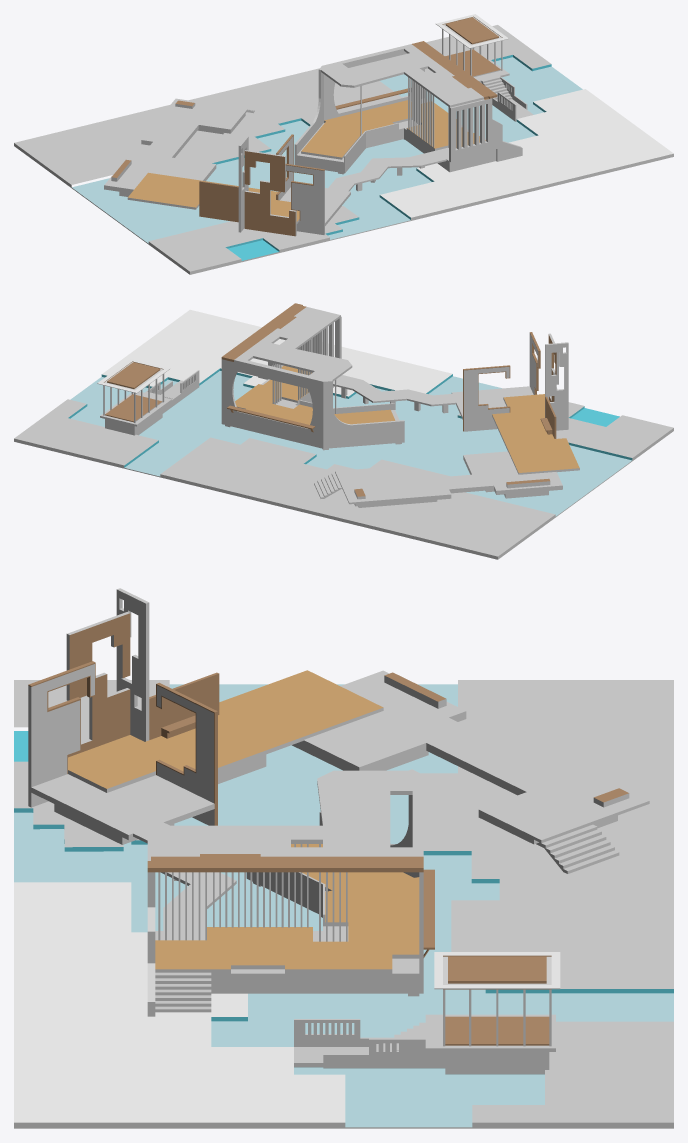
The picture shows the model from 3 angles, top to bottom: view 1: azimuth 30°, elevation 25°; view 2: azimuth 150°, elevation 25°; view 3: azimuth 270°, elevation 25°; orthographic projection. The views are drawn at different scales.
Parts seen in each view (by area): view 1: Mesh18-FrontColor, Mesh18-M_0128_White, Group3-FrontColor (×2), Mesh18-Water_Pool_Light, Mesh8-FrontColor, Mesh8-Wood_Veneer_01, Group3-Wood_Bamboo, Mesh8-Wood_Bamboo, Group2-FrontColor (×2), Group2-Wood_Veneer_01, Mesh18-Water_Sparkling, Group3-Wood_Veneer_01 (+1 smaller); view 2: Mesh18-FrontColor, Mesh18-Water_Pool_Light, Mesh8-FrontColor, Group3-FrontColor (×2), Mesh18-M_0128_White, Mesh8-Wood_Bamboo, Group3-Wood_Bamboo, Group2-FrontColor (×2), Group2-Wood_Veneer_01, Group3-Wood_Veneer_01, Mesh8-Wood_Veneer_01, Mesh18-Water_Sparkling (+1 smaller); view 3: Mesh18-FrontColor, Mesh18-Water_Pool_Light, Mesh18-M_0128_White, Mesh8-FrontColor, Group3-FrontColor (×2), Group3-Wood_Bamboo, Mesh8-Wood_Bamboo, Group2-FrontColor (×2), Mesh8-Wood_Veneer_01, Group2-Wood_Veneer_01, Group3-Wood_Veneer_01, Mesh18-Water_Sparkling (+1 smaller).
Boxes of the visible parts, box(x1,y1,x2,y2) form: Mesh18-FrontColor: box(14, 25, 673, 274); Mesh18-M_0128_White: box(380, 89, 673, 217); Group3-FrontColor (×2): box(294, 44, 522, 174); Mesh18-Water_Pool_Light: box(72, 57, 582, 243); Mesh8-FrontColor: box(104, 98, 446, 235); Mesh8-Wood_Veneer_01: box(112, 100, 324, 236); Group3-Wood_Bamboo: box(301, 100, 485, 157); Mesh8-Wood_Bamboo: box(128, 172, 299, 221); Group2-FrontColor (×2): box(436, 24, 533, 121); Group2-Wood_Veneer_01: box(442, 16, 502, 76); Mesh18-Water_Sparkling: box(212, 55, 551, 260); Group3-Wood_Veneer_01: box(335, 41, 497, 109); Mesh18-FrontColor: box(14, 394, 673, 559); Mesh18-Water_Pool_Light: box(70, 371, 631, 515); Mesh8-FrontColor: box(314, 333, 579, 507); Group3-FrontColor (×2): box(221, 307, 404, 450); Mesh18-M_0128_White: box(102, 309, 452, 396); Mesh8-Wood_Bamboo: box(492, 394, 579, 472); Group3-Wood_Bamboo: box(235, 365, 395, 424); Group2-FrontColor (×2): box(97, 369, 199, 435); Group2-Wood_Veneer_01: box(104, 361, 163, 422); Group3-Wood_Veneer_01: box(221, 303, 315, 432); Mesh8-Wood_Veneer_01: box(354, 332, 556, 496); Mesh18-Water_Sparkling: box(68, 368, 632, 467); Mesh18-FrontColor: box(14, 680, 673, 1128); Mesh18-Water_Pool_Light: box(14, 684, 673, 1127); Mesh18-M_0128_White: box(14, 882, 345, 1122); Mesh8-FrontColor: box(28, 588, 649, 930); Group3-FrontColor (×2): box(147, 769, 423, 1016); Group3-Wood_Bamboo: box(155, 844, 419, 969); Mesh8-Wood_Bamboo: box(68, 670, 383, 788); Group2-FrontColor (×2): box(294, 988, 560, 1074); Mesh8-Wood_Veneer_01: box(28, 613, 628, 825); Group2-Wood_Veneer_01: box(443, 955, 551, 1045); Group3-Wood_Veneer_01: box(147, 854, 434, 957); Mesh18-Water_Sparkling: box(14, 731, 673, 1021).
Bounding box in the file's own units: 0.4684 × 0.083 × 0.2951.
